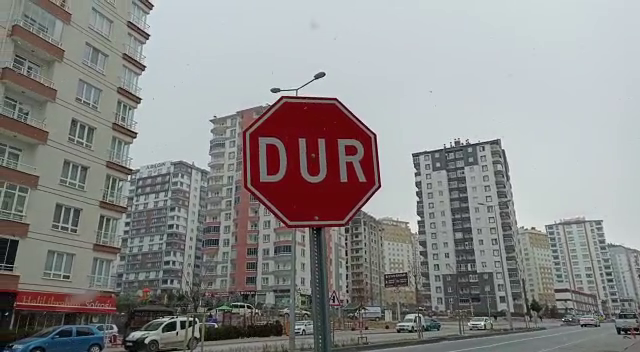stop: (239, 93, 384, 231)
